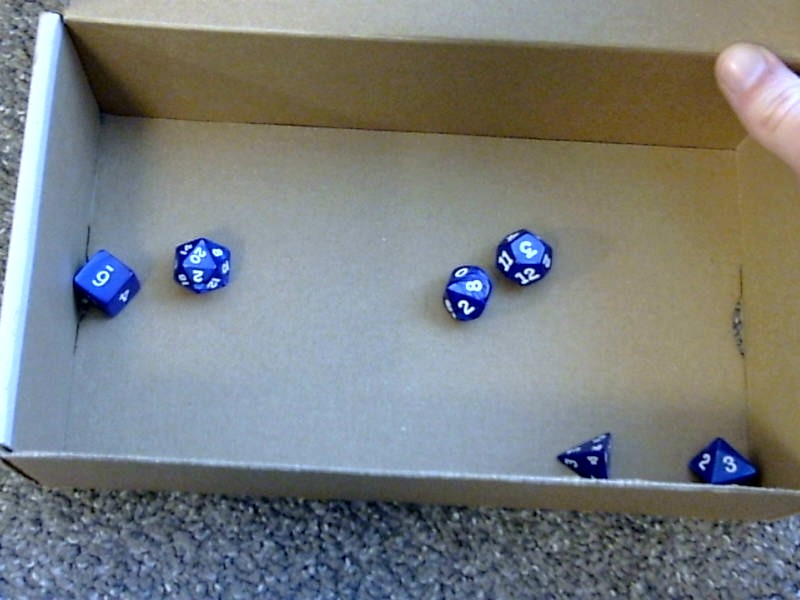d10 8: (438, 258, 494, 326)
d12 3: (494, 223, 556, 288)
d20 20: (169, 227, 235, 296)
d4 4: (553, 424, 617, 484)
d6 6: (64, 234, 145, 321)
d8 3: (677, 428, 763, 491)
